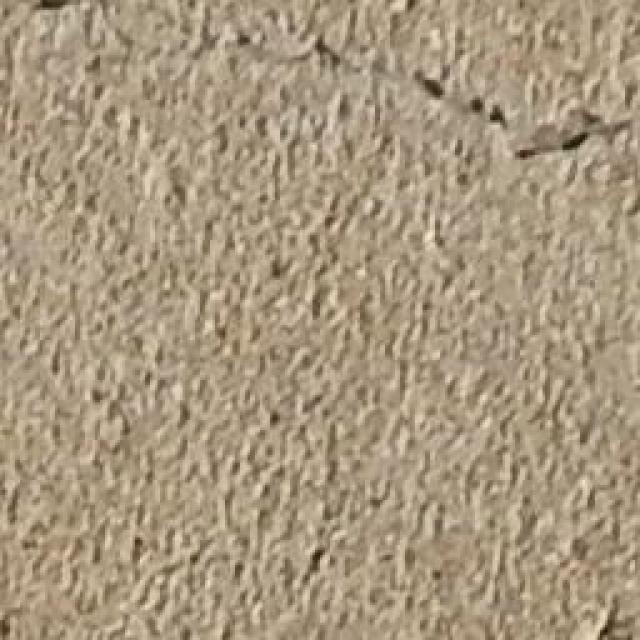concrete-crack: (288, 25, 639, 166)
